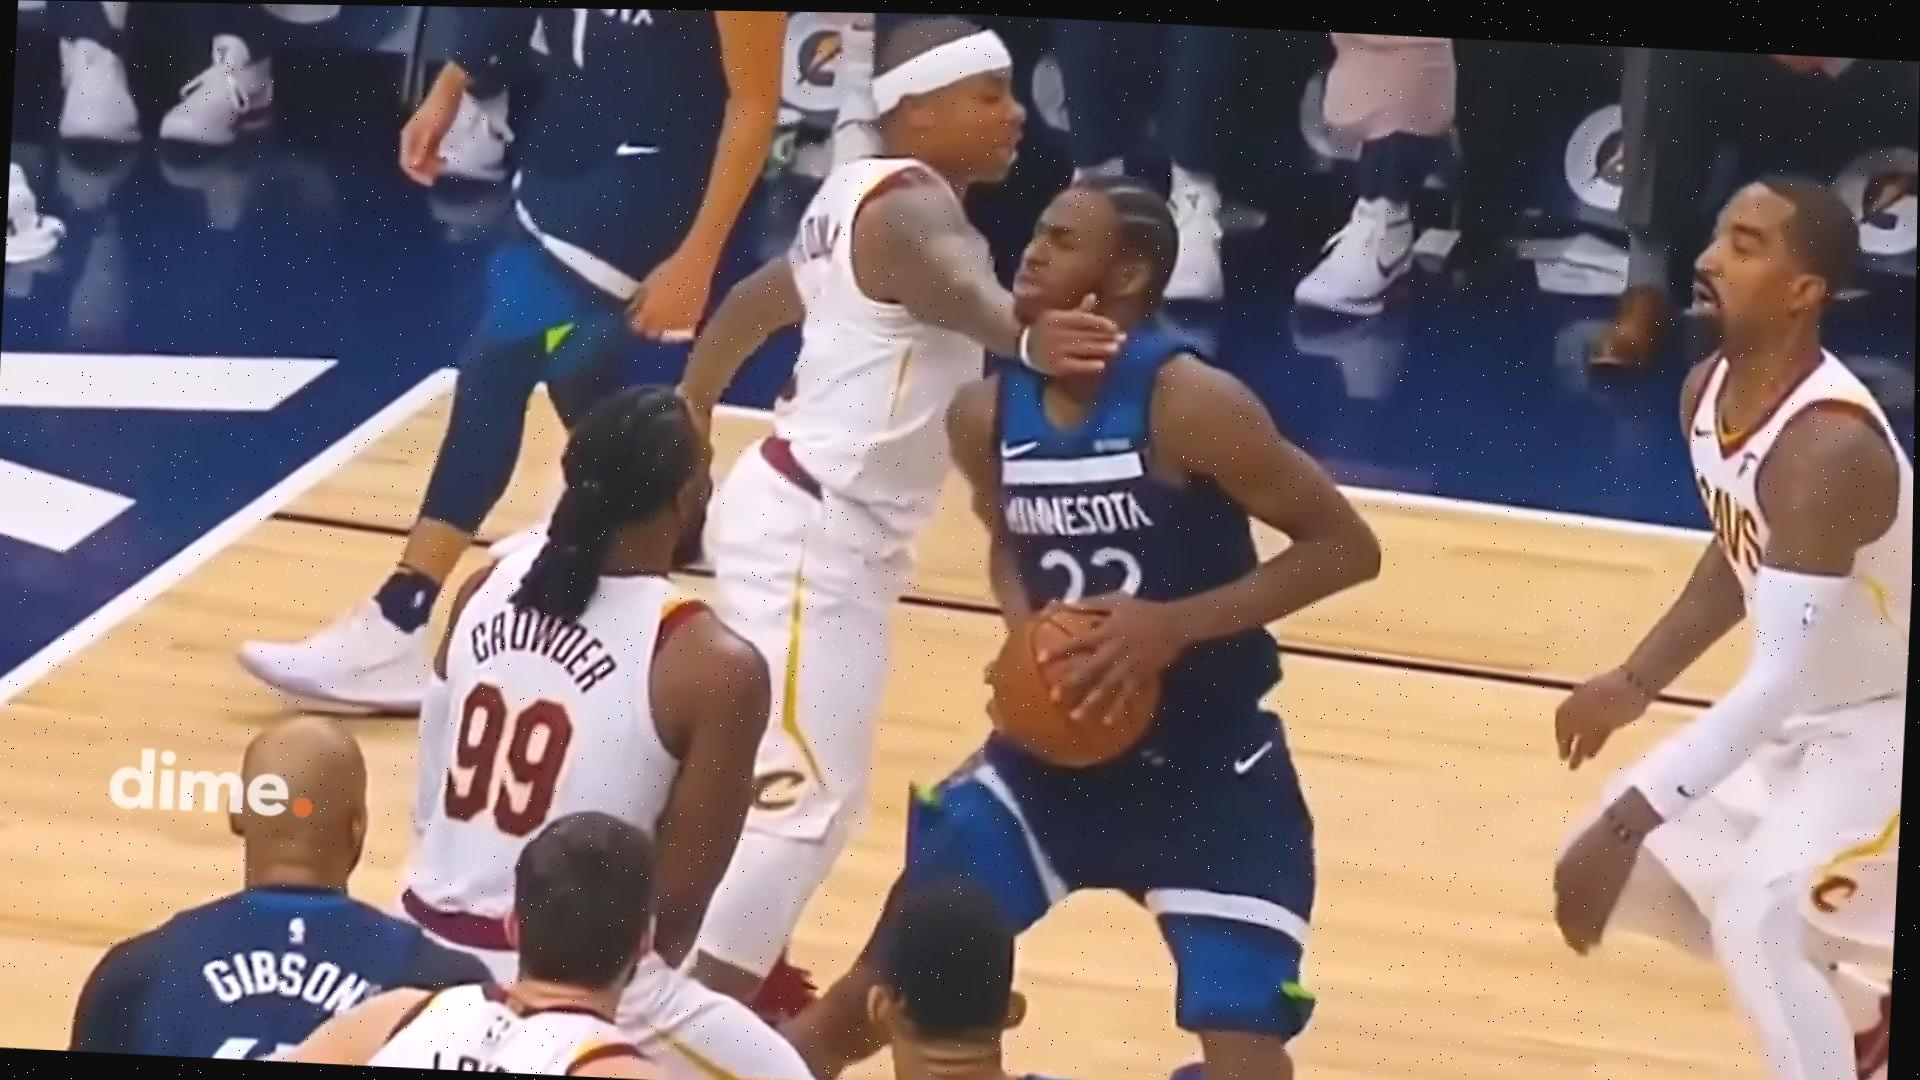foul: (713, 40, 1473, 1080)
